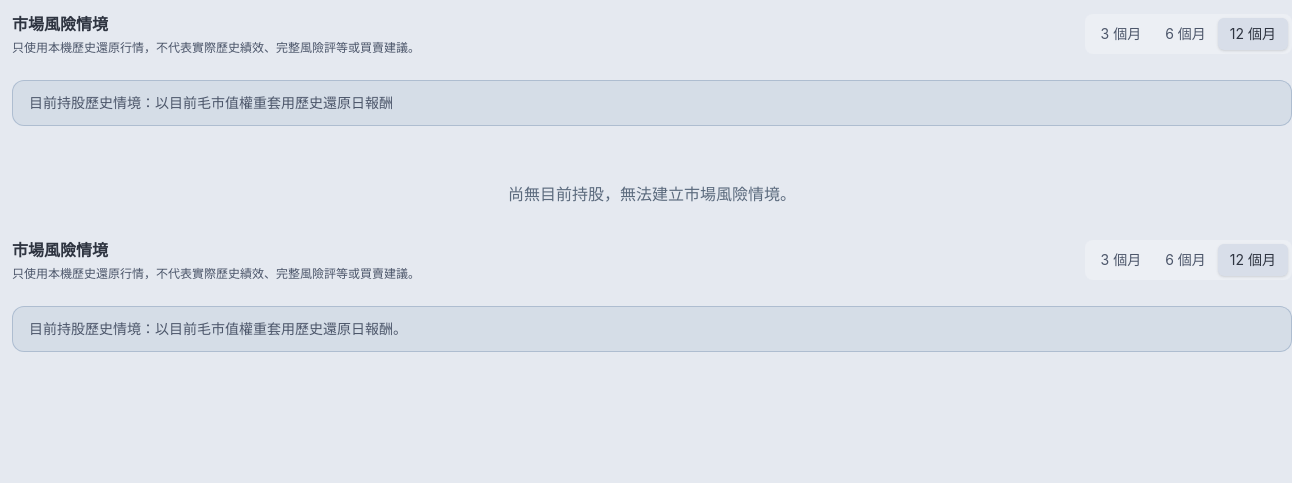
Scenario: StockMarketRiskReport › shows no-holdings, syncing warning, and query failure states truthfully
Click the 2nd button with test id "period-3" at (1121, 260), box [1089, 244, 1153, 276]
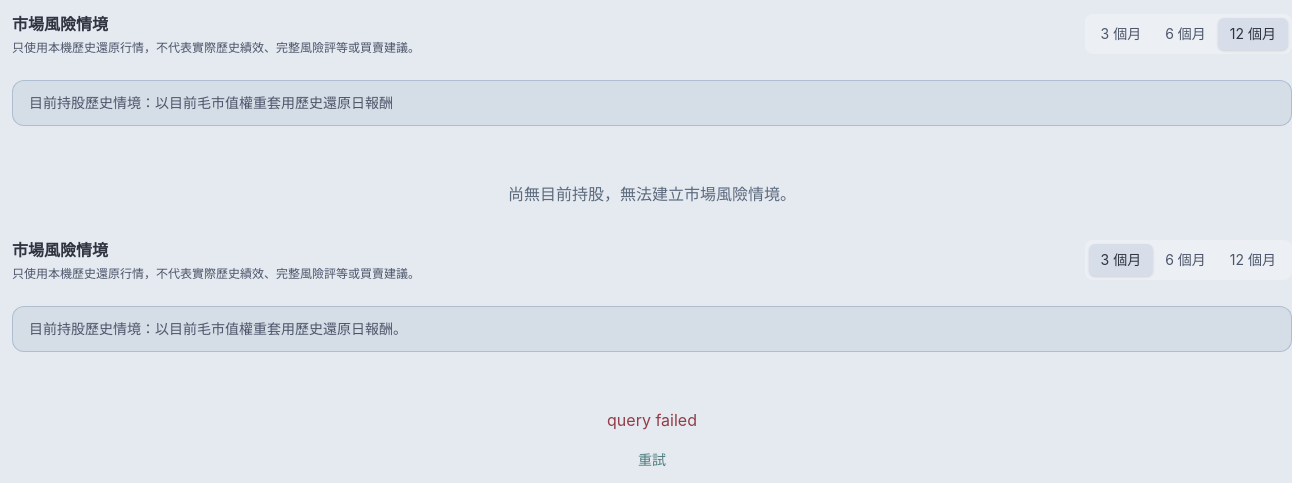
Expected: the text "query failed" is shown, [607, 410, 697, 430]
